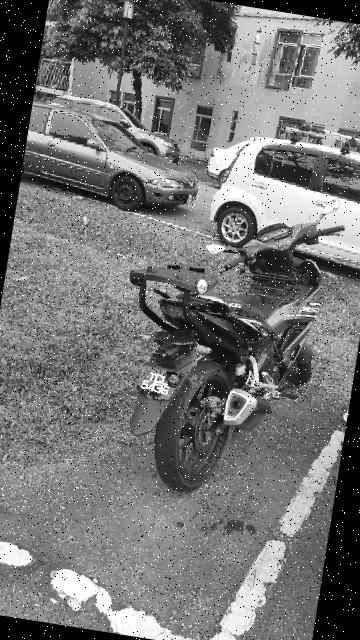License_Plate: (129, 364, 188, 407)
car: (19, 87, 216, 222), (205, 131, 360, 283)
motorcycle: (89, 165, 355, 511)
